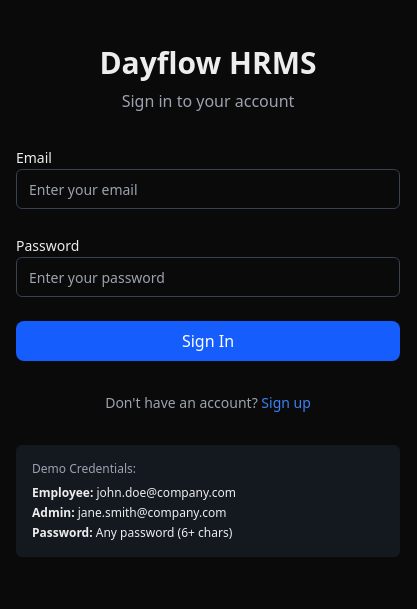
LoginPage › should display authentication error when login fails
This screenshot has width=417, height=609.
In the field labelled "Email": (208, 189) [16, 169, 400, 209], type "test@example.com"
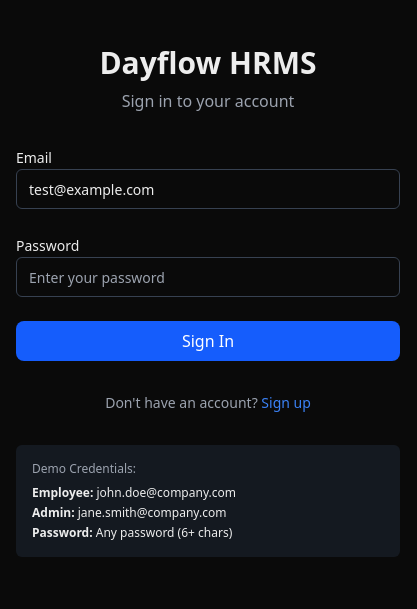
In the password field labelled "Password": (208, 277) [16, 257, 400, 297], type "password123"
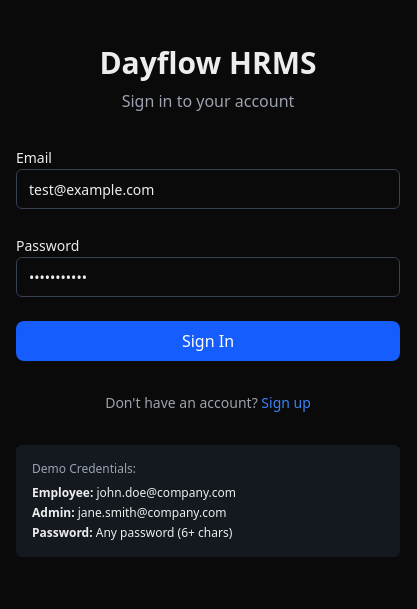
Click the button "Sign In": (208, 341) [16, 321, 400, 361]
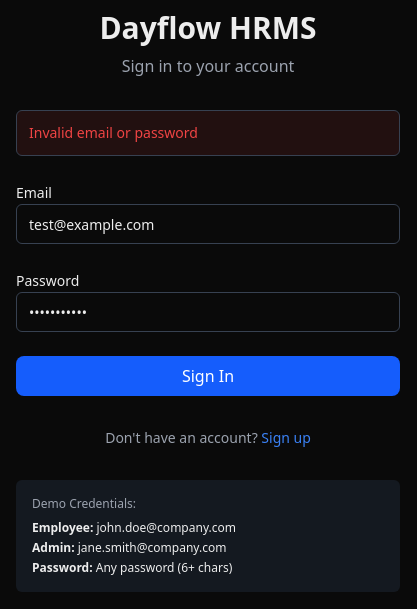
Expected: the text "Invalid email or password" is shown, [16, 110, 400, 156]
